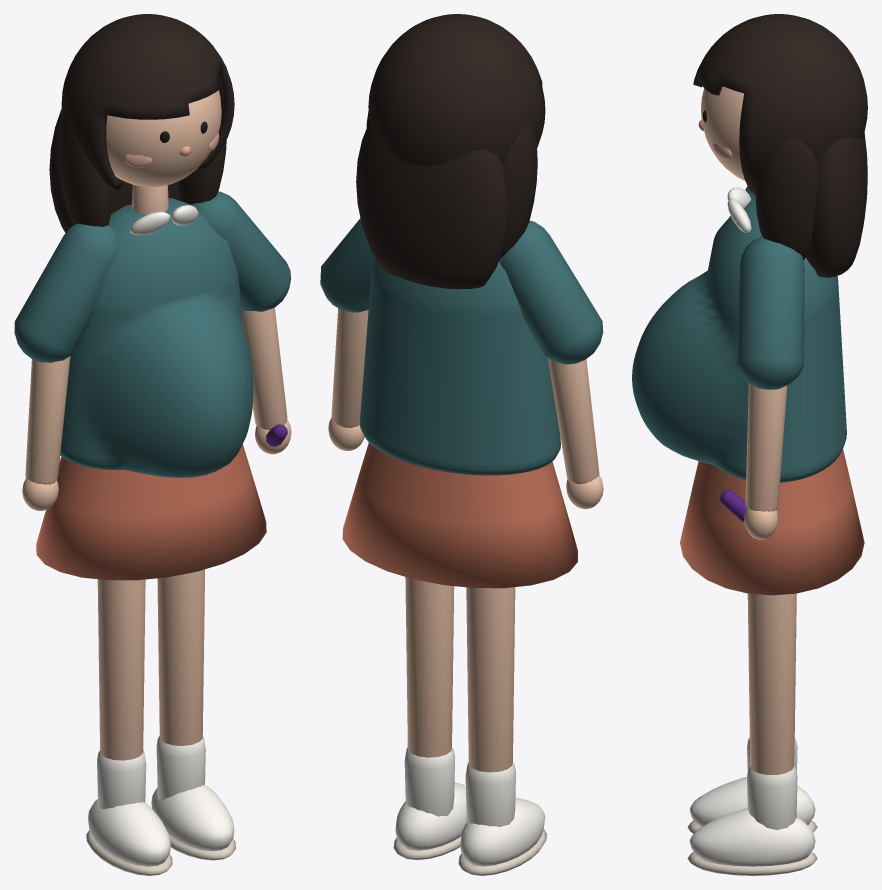
Rendered from Votante_Embarazada.fbx.
3 renders of one model, left to right at view 1: azimuth 30°, elevation 25°; view 2: azimuth 150°, elevation 25°; view 3: azimuth 270°, elevation 25°, orthographic. The views are drawn at different scales.
Visible parts, largest first — view 1: Votante_Embarazada; view 2: Votante_Embarazada; view 3: Votante_Embarazada.
Part boxes in pixels (<box>): Votante_Embarazada: <box>14,14,291,875</box>; Votante_Embarazada: <box>320,14,603,875</box>; Votante_Embarazada: <box>632,14,867,875</box>.
Bounding box in the file's own units: 0.5576 × 1.63 × 0.4197.
